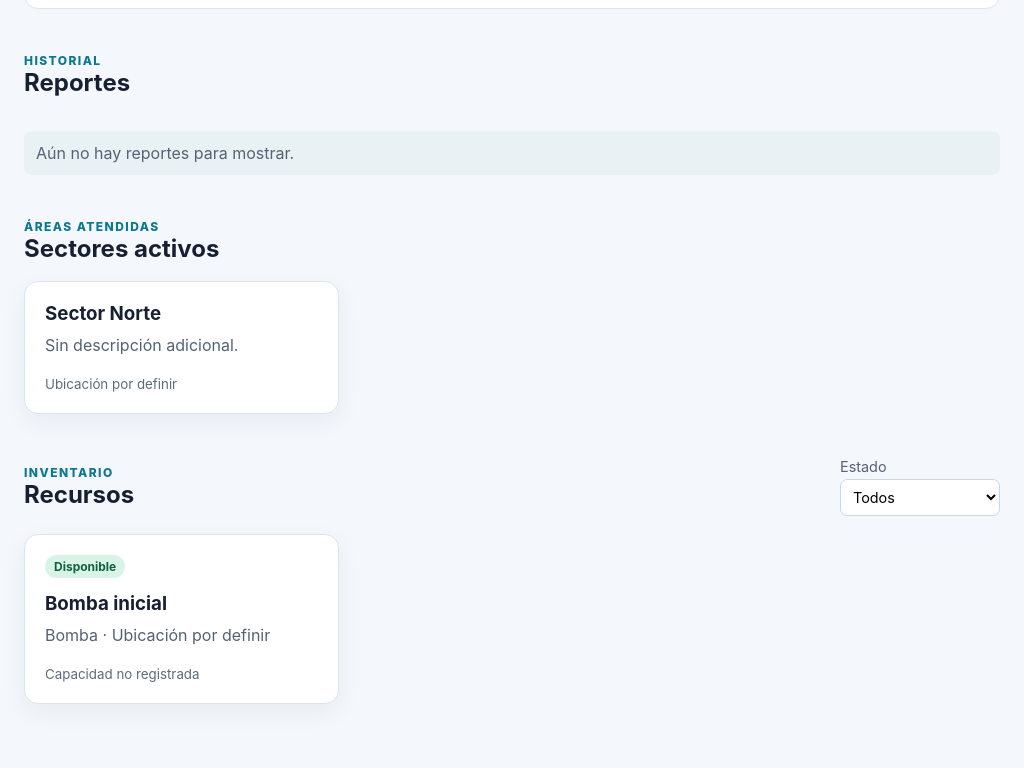
updates without replacing the page › keeps the latest filter when earlier requests finish later
(page scrolled)
Check: the heading "Bomba inicial" is shown, box [45,592,167,615]
Select "En mantenimiento" in the dropdown labelled "Estado": {"x": 920, "y": 498} [840,479,1000,516]
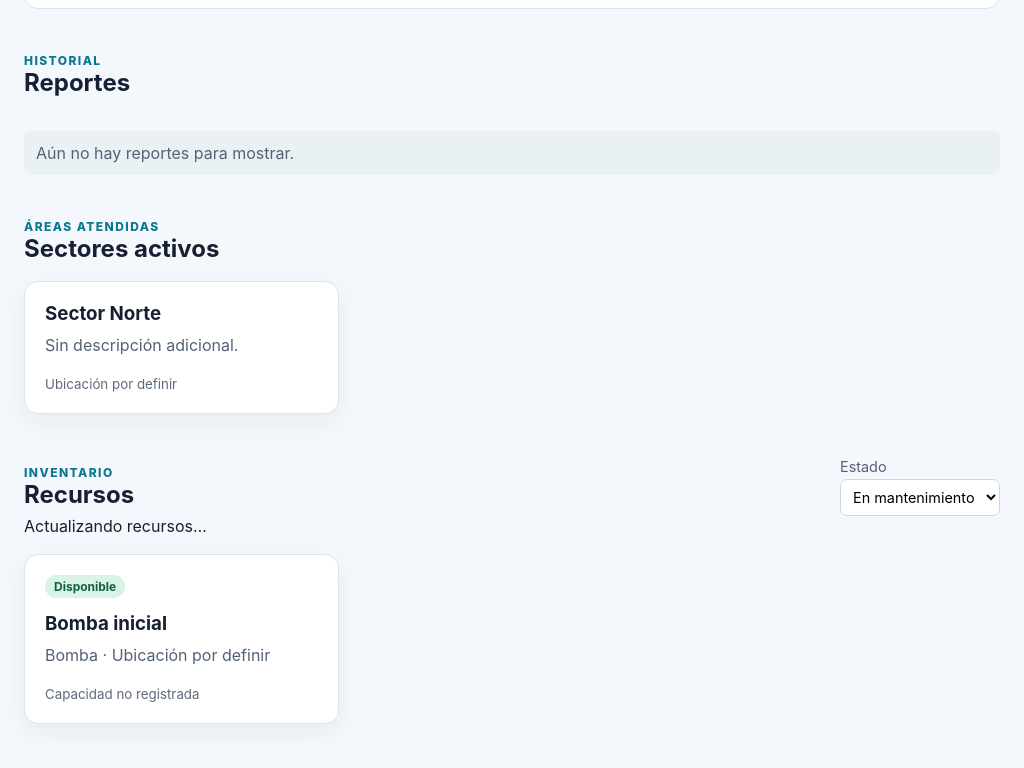
Select "Inactivos" in the dropdown labelled "Estado": {"x": 920, "y": 498} [840,479,1000,516]
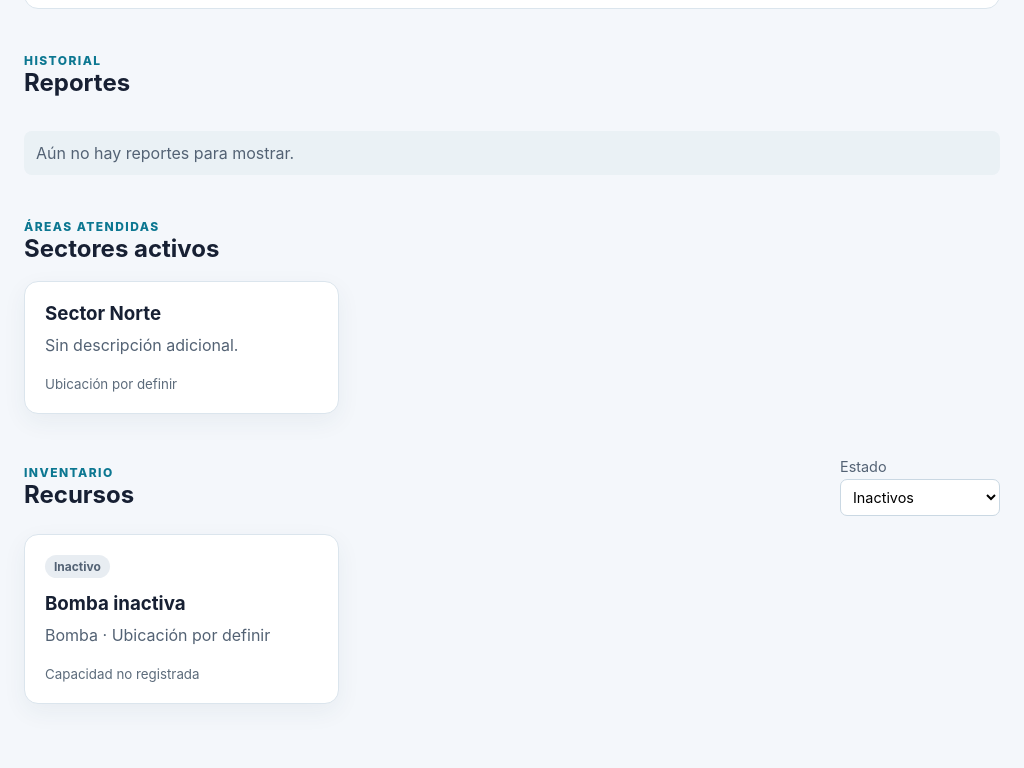
Check: the heading "Bomba inactiva" is shown, box [45,592,186,615]
